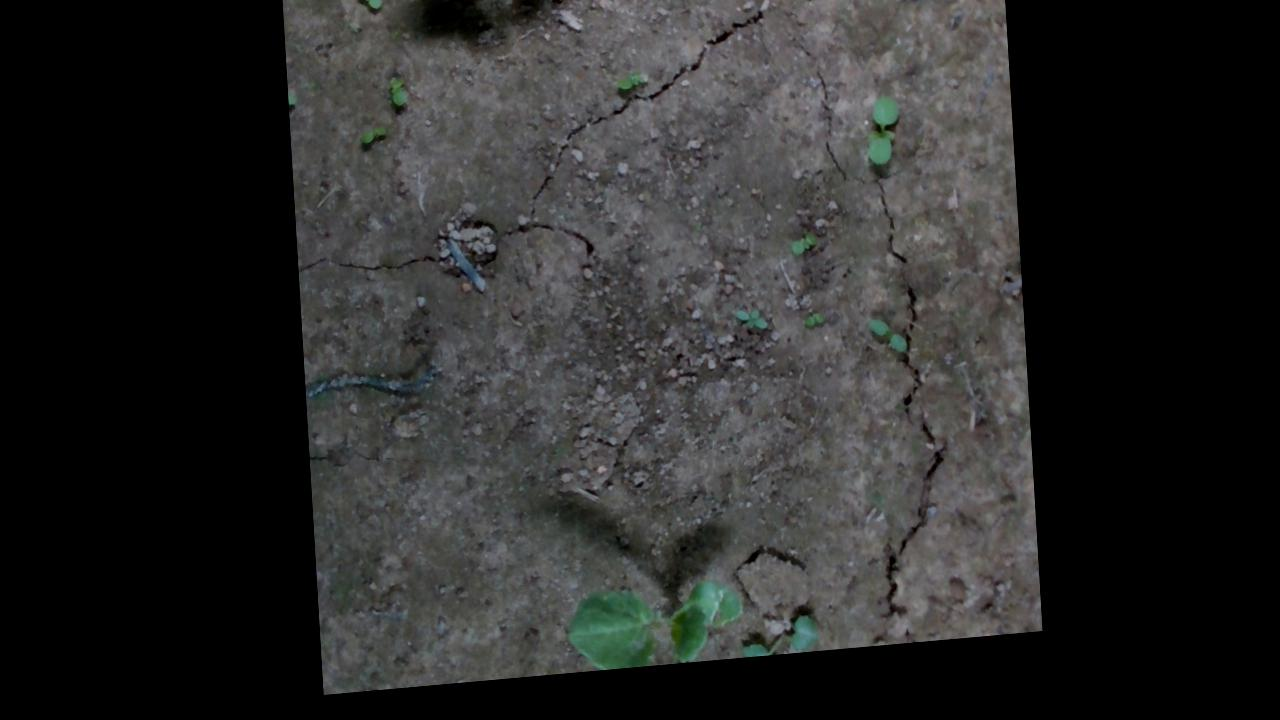weed: (732, 624, 817, 670), (863, 111, 901, 183), (860, 329, 905, 372), (728, 319, 764, 345), (386, 79, 411, 114), (785, 245, 816, 269), (612, 80, 647, 101), (357, 130, 388, 151), (355, 0, 384, 18), (798, 324, 821, 341), (798, 0, 824, 14)
